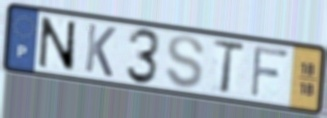3: (126, 26, 162, 86)
F: (248, 43, 291, 100)
K: (83, 21, 119, 80)
N: (37, 15, 77, 74)
S: (163, 33, 206, 91)
T: (211, 38, 247, 96)
